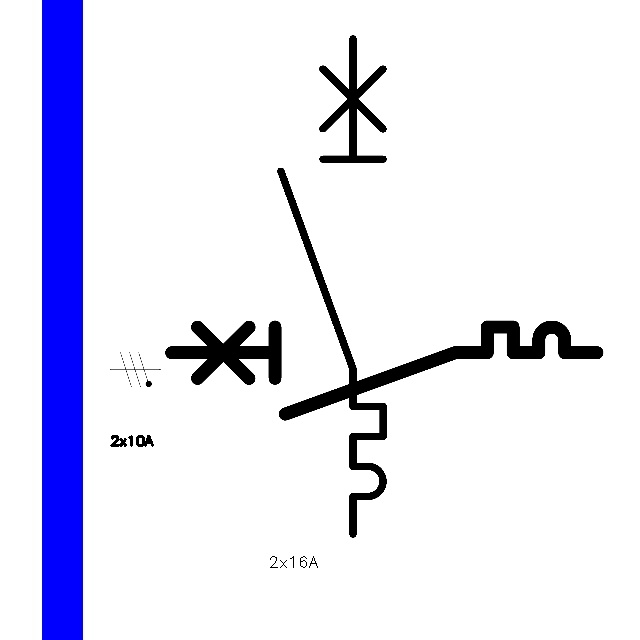interruptor_termomagnetico: (268, 26, 396, 547), (160, 316, 607, 425)
